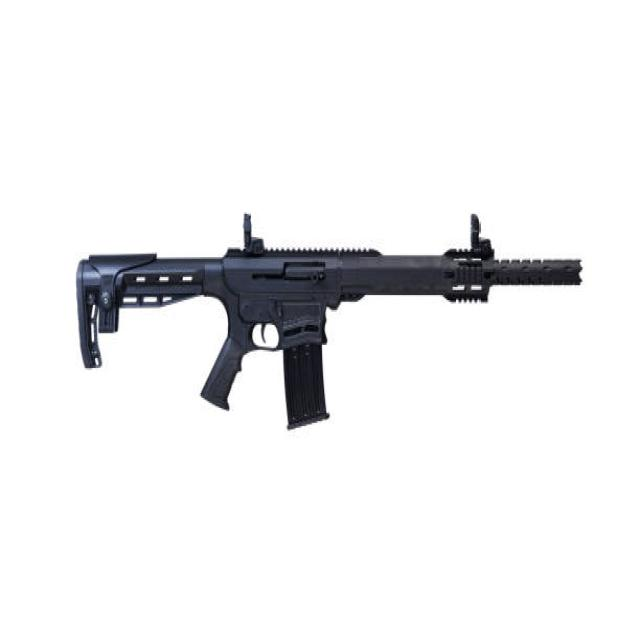rifle: (69, 197, 593, 447)
